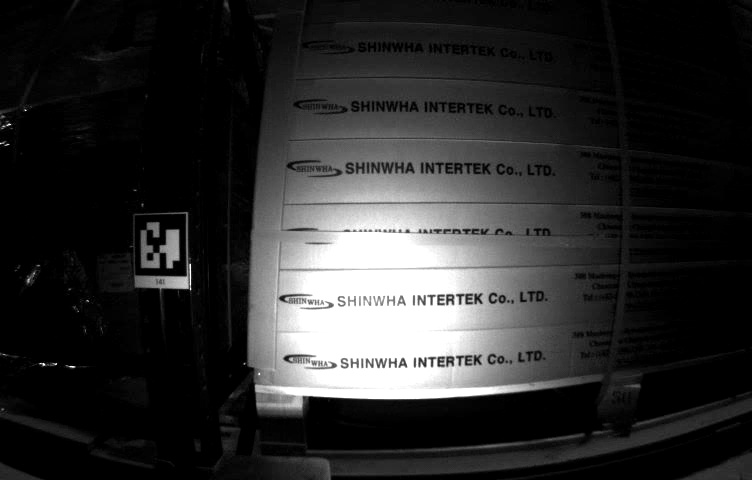True Barcode: (95, 252, 134, 292)
